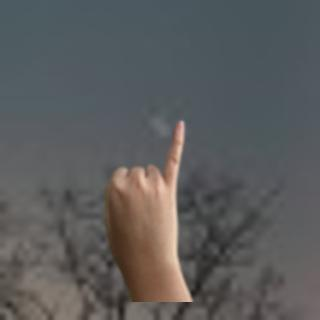FINE: (99, 116, 192, 280)
